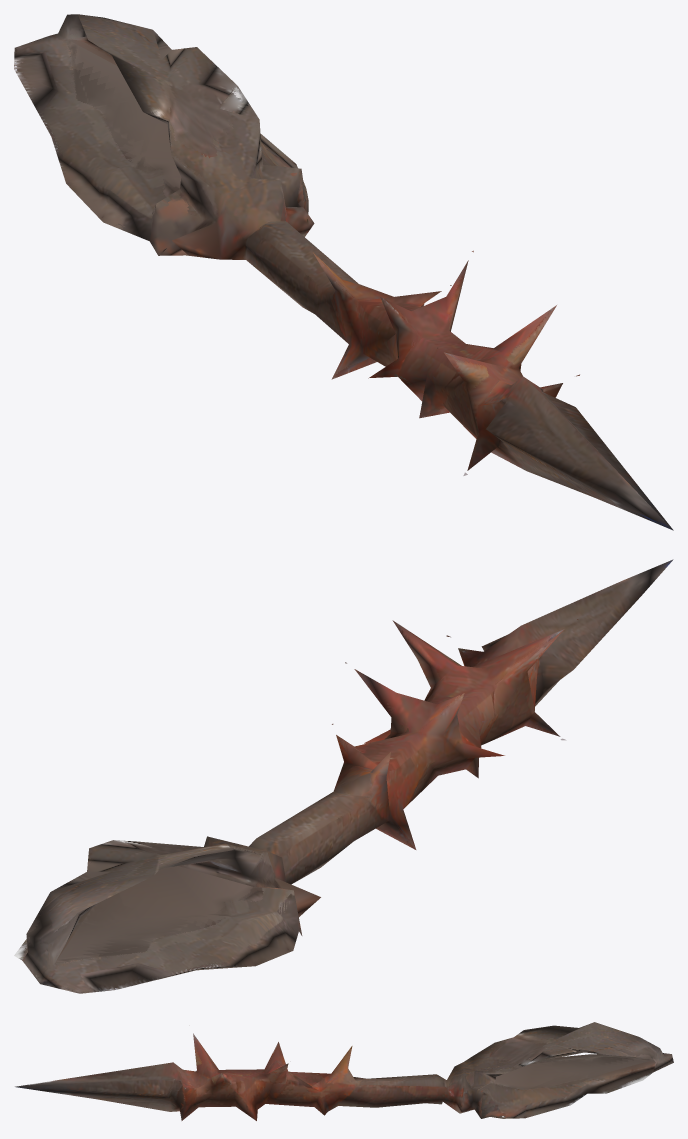
Rendered from thorn_dart.glb.
The picture shows the model from 3 angles, top to bottom: view 1: azimuth 30°, elevation 25°; view 2: azimuth 150°, elevation 25°; view 3: azimuth 270°, elevation 25°; orthographic projection. The views are drawn at different scales.
Bounding box in the file's own units: 0.1869 × 0.1371 × 0.9858.
1 material, 1 textured.
